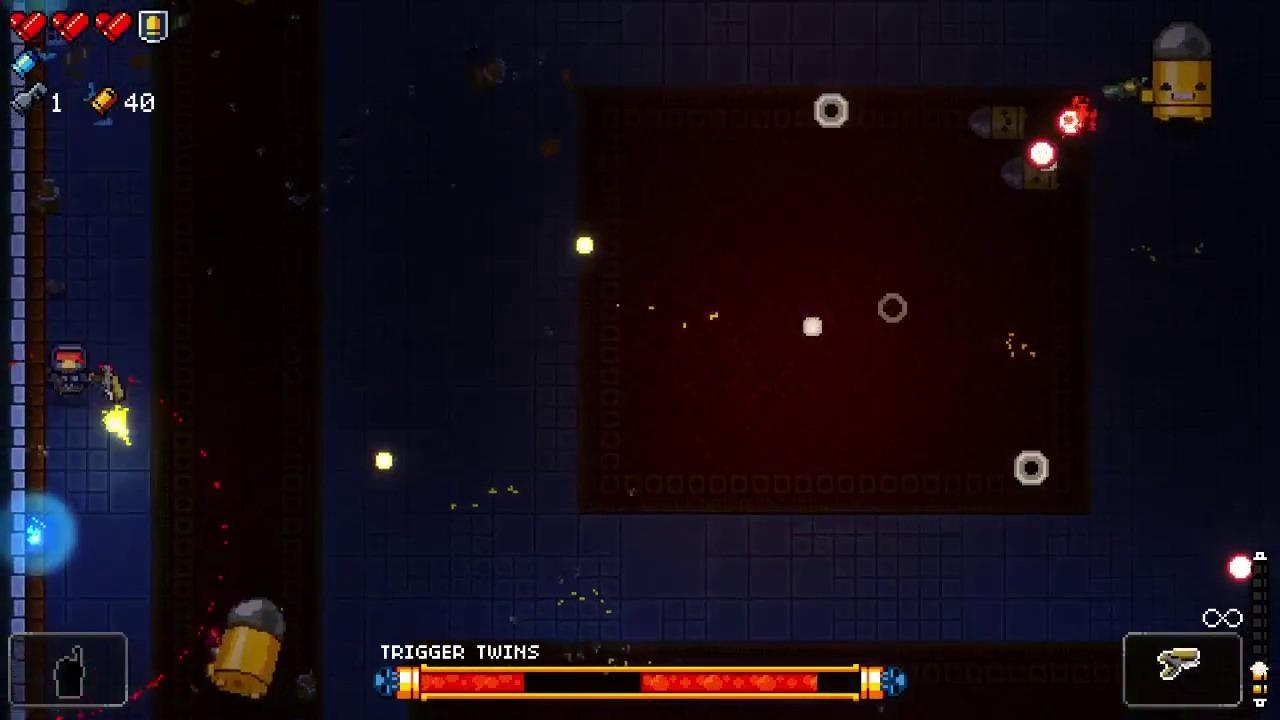boss_shades: (215, 599, 286, 700)
boss_smiley: (1152, 23, 1213, 123)
bullet: (1026, 139, 1056, 171), (1225, 554, 1258, 581)
dead_bullet_kin: (967, 106, 1027, 141), (1003, 161, 1060, 193)
player: (50, 344, 88, 398)
